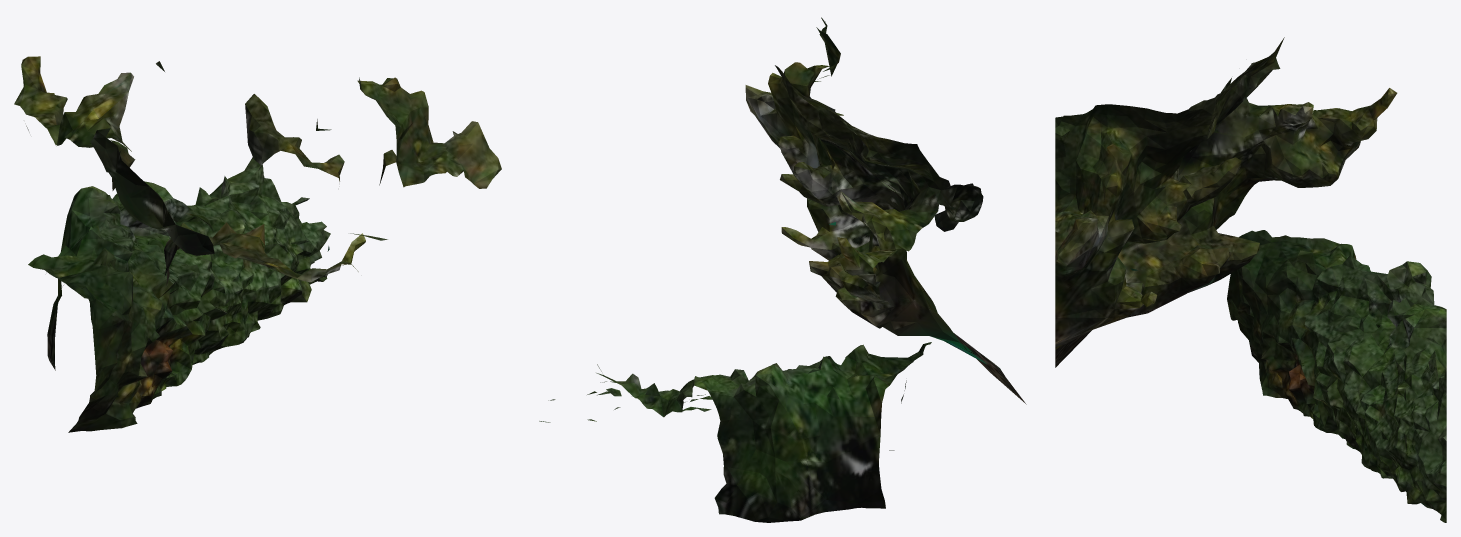
The picture shows the model from 3 angles, left to right: view 1: azimuth 30°, elevation 25°; view 2: azimuth 150°, elevation 25°; view 3: azimuth 270°, elevation 25°; orthographic projection. The views are drawn at different scales.
Size of the model in its own units: 3.16 by 3.35 by 3.35.
Materials: 5 (5 with a texture image).
